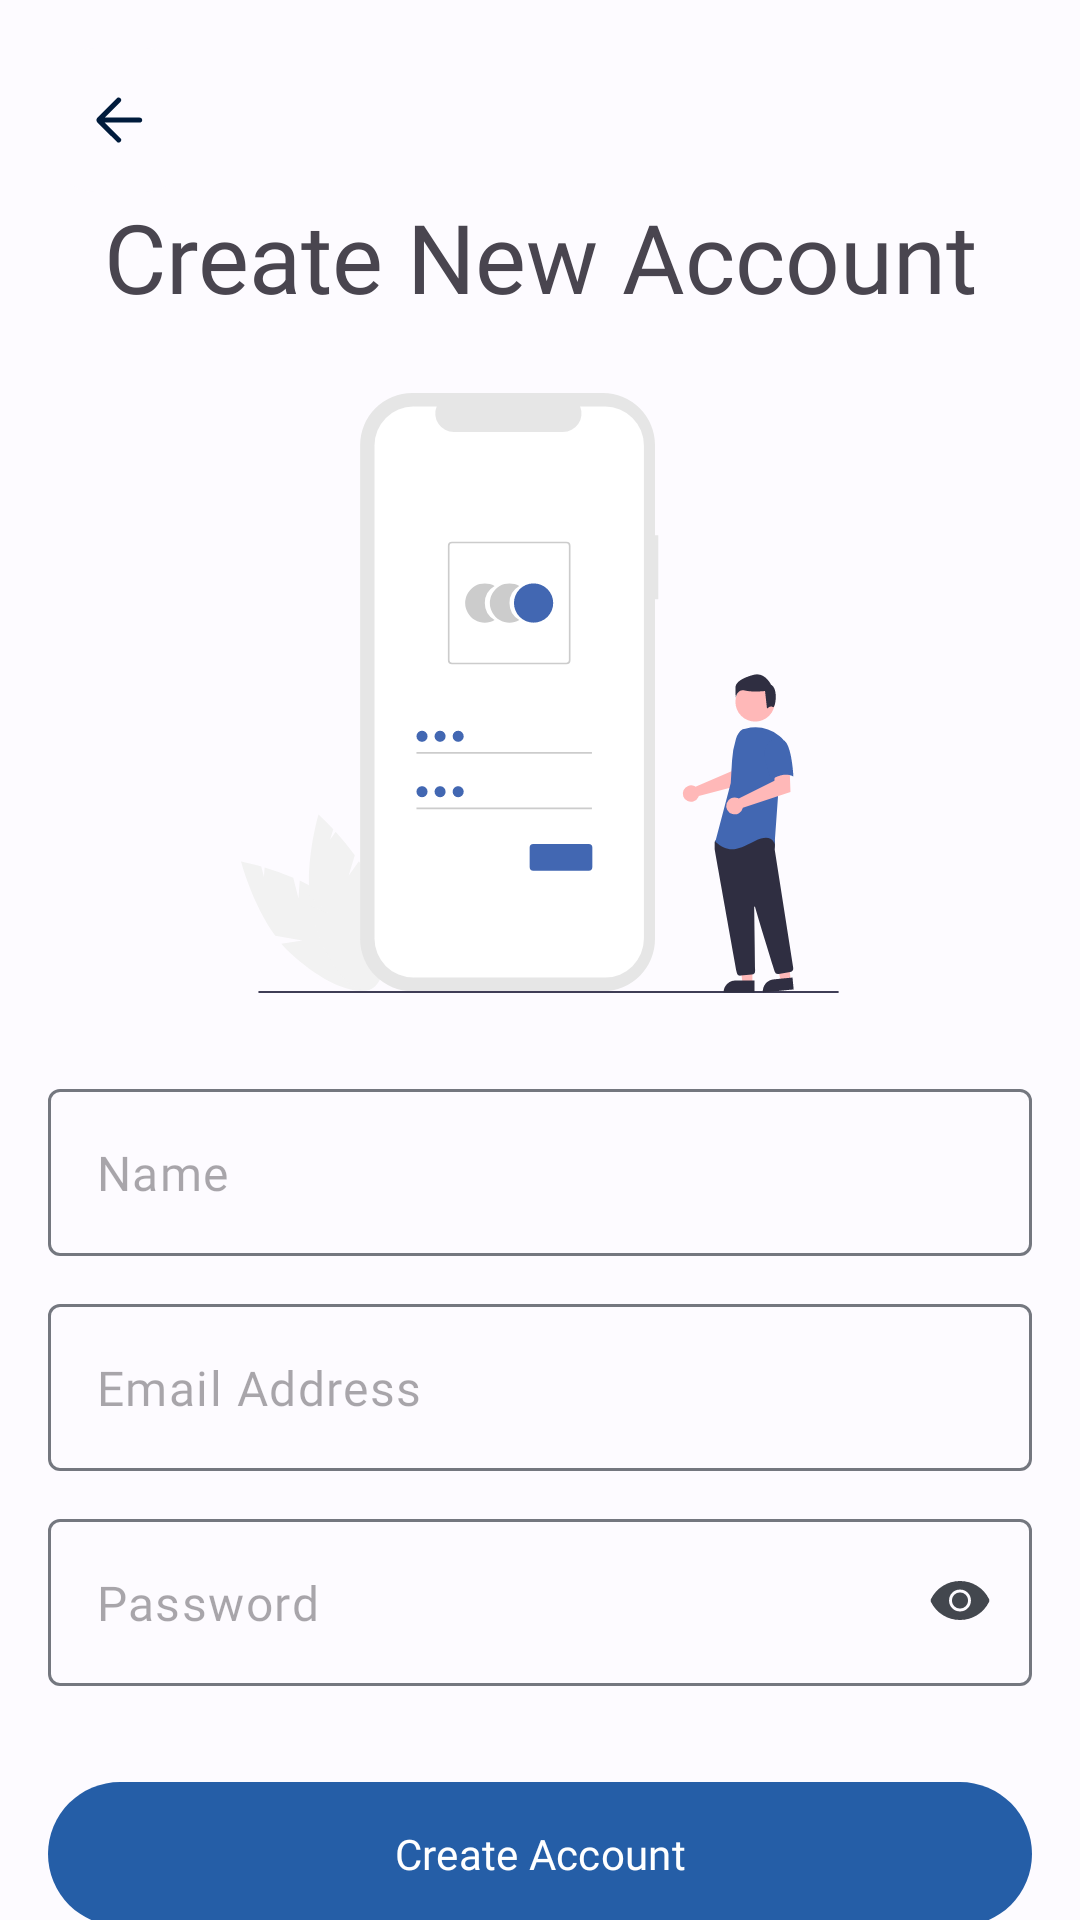

Named icons in this screenshot (1080px x 1920px) and their bounding boxes, (x1, y1, x2, y2):
arrow back: (96, 97, 143, 143)
